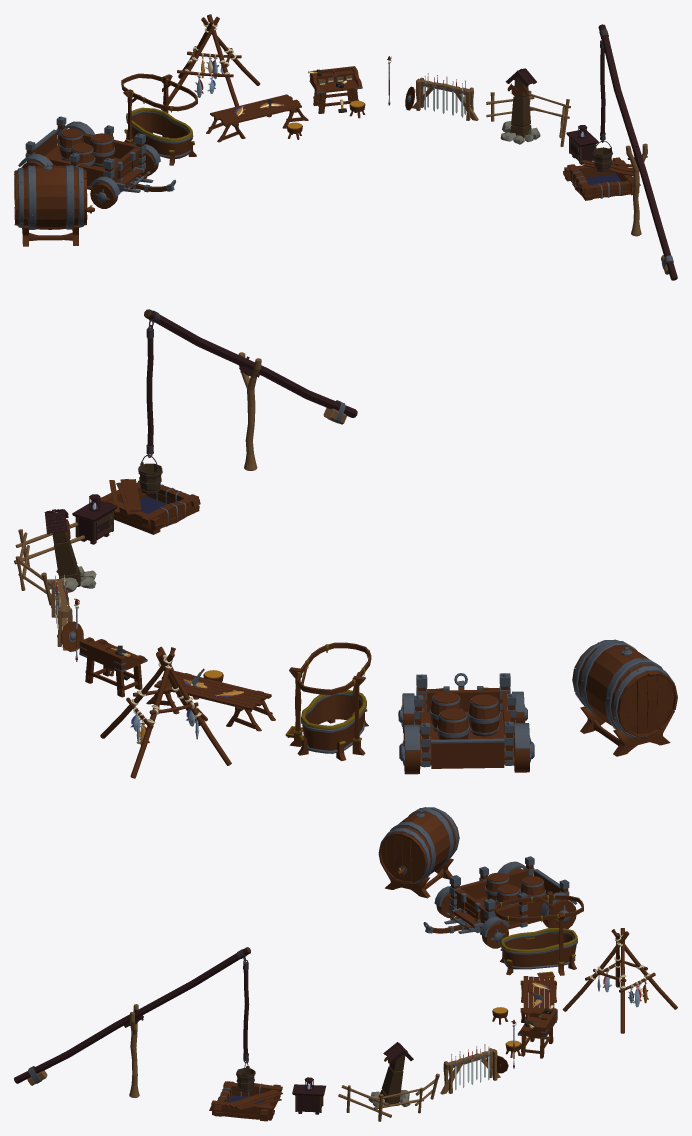
The model's file is homework2.fbx.
The picture shows the model from 3 angles, top to bottom: view 1: azimuth 30°, elevation 25°; view 2: azimuth 150°, elevation 25°; view 3: azimuth 270°, elevation 25°; orthographic projection. The views are drawn at different scales.
Parts seen in each view (by area): view 1: barrel-body, juravl, bath-wood, well, barrel-rings, table.001, fish-holder, table, barrels, wood-walls, columns, bath-metal (+14 smaller); view 2: barrel-body, juravl, well, bath-wood, wood-walls, fish-holder, table.001, barrel-sides, barrel-rings, barrels, table, columns (+13 smaller); view 3: juravl, bath-wood, well, barrel-body, fish-holder, barrel-sides, barrel-rings, wood-walls, table.001, bath-metal, columns, wheels (+12 smaller).
Boxes of the visible parts, bbox=[...] form: barrel-body: bbox=[14, 165, 87, 229]; juravl: bbox=[598, 24, 677, 280]; bath-wood: bbox=[121, 73, 197, 158]; well: bbox=[563, 157, 640, 200]; barrel-rings: bbox=[17, 165, 83, 229]; table.001: bbox=[206, 94, 308, 142]; fish-holder: bbox=[161, 14, 260, 110]; table: bbox=[310, 66, 362, 113]; barrels: bbox=[59, 128, 114, 166]; wood-walls: bbox=[34, 132, 138, 186]; columns: bbox=[25, 116, 145, 181]; bath-metal: bbox=[126, 77, 197, 157]; barrel-body: bbox=[572, 645, 677, 736]; juravl: bbox=[144, 309, 357, 446]; well: bbox=[98, 479, 200, 534]; bath-wood: bbox=[296, 642, 371, 750]; wood-walls: bbox=[421, 694, 511, 768]; fish-holder: bbox=[100, 646, 231, 778]; table.001: bbox=[146, 671, 275, 731]; barrel-sides: bbox=[621, 675, 674, 733]; barrel-rings: bbox=[573, 639, 674, 737]; barrels: bbox=[430, 691, 499, 739]; table: bbox=[79, 637, 146, 697]; columns: bbox=[414, 673, 516, 766]; juravl: bbox=[14, 947, 250, 1083]; bath-wood: bbox=[494, 895, 583, 969]; well: bbox=[209, 1081, 282, 1121]; barrel-body: bbox=[378, 811, 459, 883]; fish-holder: bbox=[562, 928, 677, 1033]; barrel-sides: bbox=[381, 835, 423, 881]; barrel-rings: bbox=[380, 807, 458, 884]; wood-walls: bbox=[456, 871, 560, 926]; table.001: bbox=[520, 975, 556, 1022]; bath-metal: bbox=[499, 894, 577, 969]; columns: bbox=[449, 856, 569, 927]; wheels: bbox=[436, 868, 576, 948].
Bounding box in the file's own units: 5884 × 1711 × 6371.
